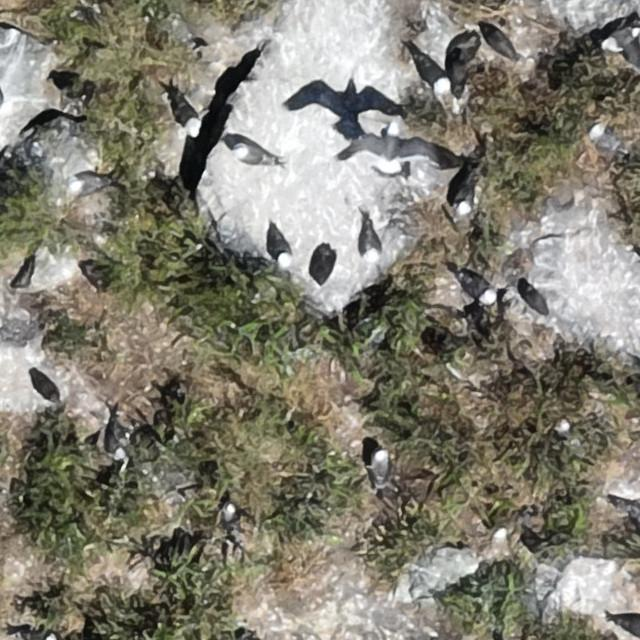F: (341, 121, 450, 174)
umineko: (167, 88, 203, 139), (590, 122, 635, 162), (495, 510, 528, 541), (104, 416, 125, 462), (462, 276, 496, 304), (418, 59, 445, 88), (603, 26, 635, 49), (523, 288, 548, 316), (232, 145, 264, 166), (371, 450, 389, 484), (72, 174, 103, 193), (272, 234, 290, 266), (363, 229, 380, 261), (614, 617, 640, 636), (458, 190, 474, 214), (555, 420, 571, 442)
